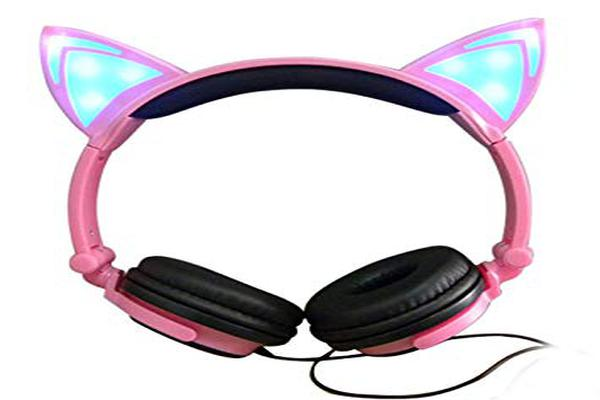headphone: (18, 22, 600, 396)
